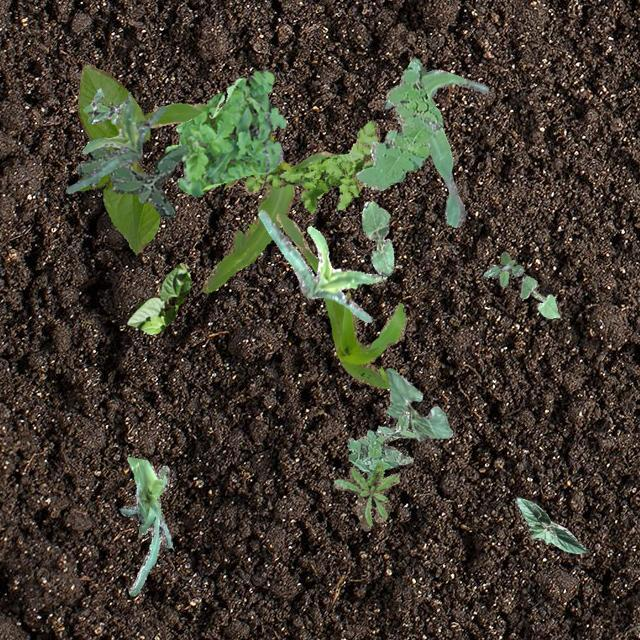crop: (144, 101, 336, 292), (274, 212, 406, 388), (382, 58, 488, 226), (76, 64, 160, 254), (258, 208, 380, 322), (64, 94, 164, 192), (118, 456, 172, 594), (384, 366, 452, 441), (124, 262, 190, 334), (516, 496, 588, 554), (360, 200, 392, 274), (520, 274, 558, 318)
weed: (164, 70, 284, 196), (242, 120, 378, 213), (354, 58, 442, 190), (74, 120, 188, 216), (346, 410, 414, 478), (332, 462, 398, 530), (82, 88, 124, 124), (482, 250, 522, 286)
